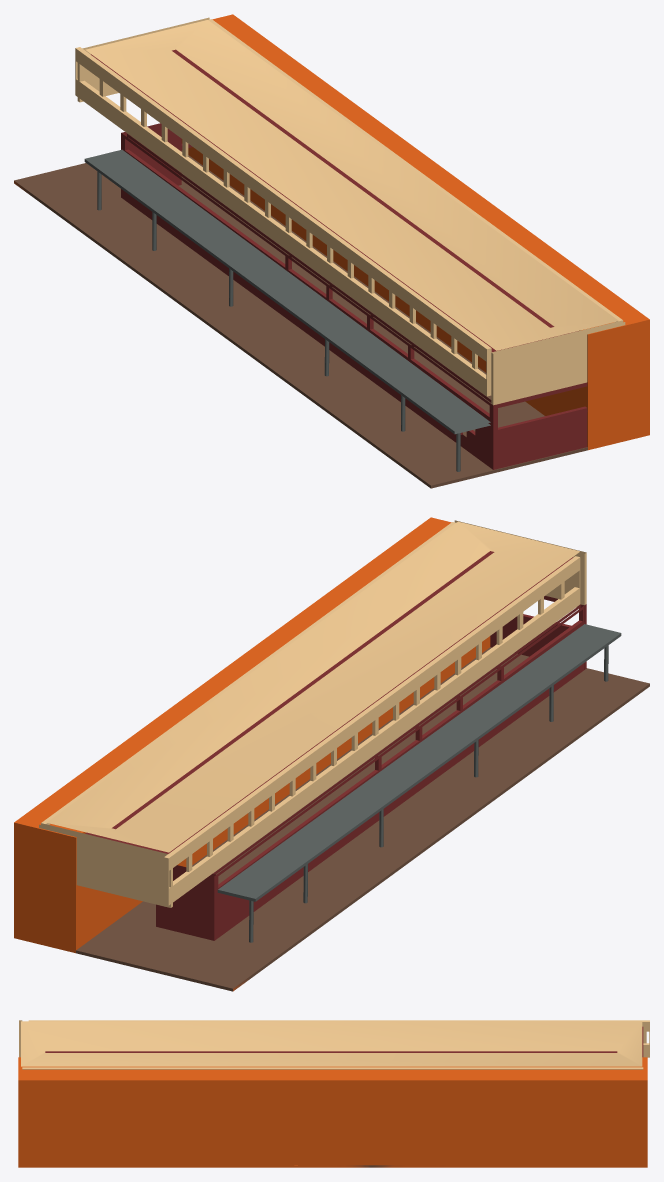
File: railway station.fbx
3 views of the same model, one above another, from view 1: azimuth 30°, elevation 25°; view 2: azimuth 150°, elevation 25°; view 3: azimuth 270°, elevation 25° (orthographic). The views are drawn at different scales.
Visible parts, largest first — view 1: platform; view 2: platform; view 3: platform.
Part boxes in pixels (<box>): platform: <box>14,14,649,488</box>; platform: <box>14,517,649,991</box>; platform: <box>18,1020,649,1167</box>.
Bounding box in the file's own units: 4.82 × 2.53 × 16.07.
